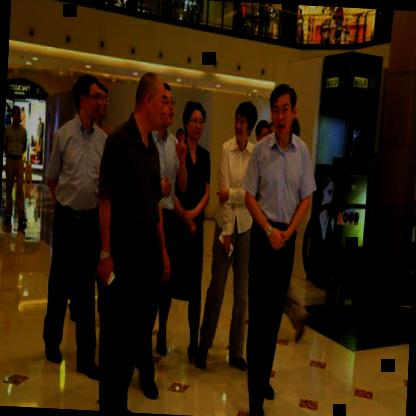head: (136, 74, 172, 134), (266, 79, 298, 138), (70, 73, 106, 123), (230, 98, 257, 144), (182, 99, 208, 145), (157, 82, 175, 132), (8, 102, 22, 127)
